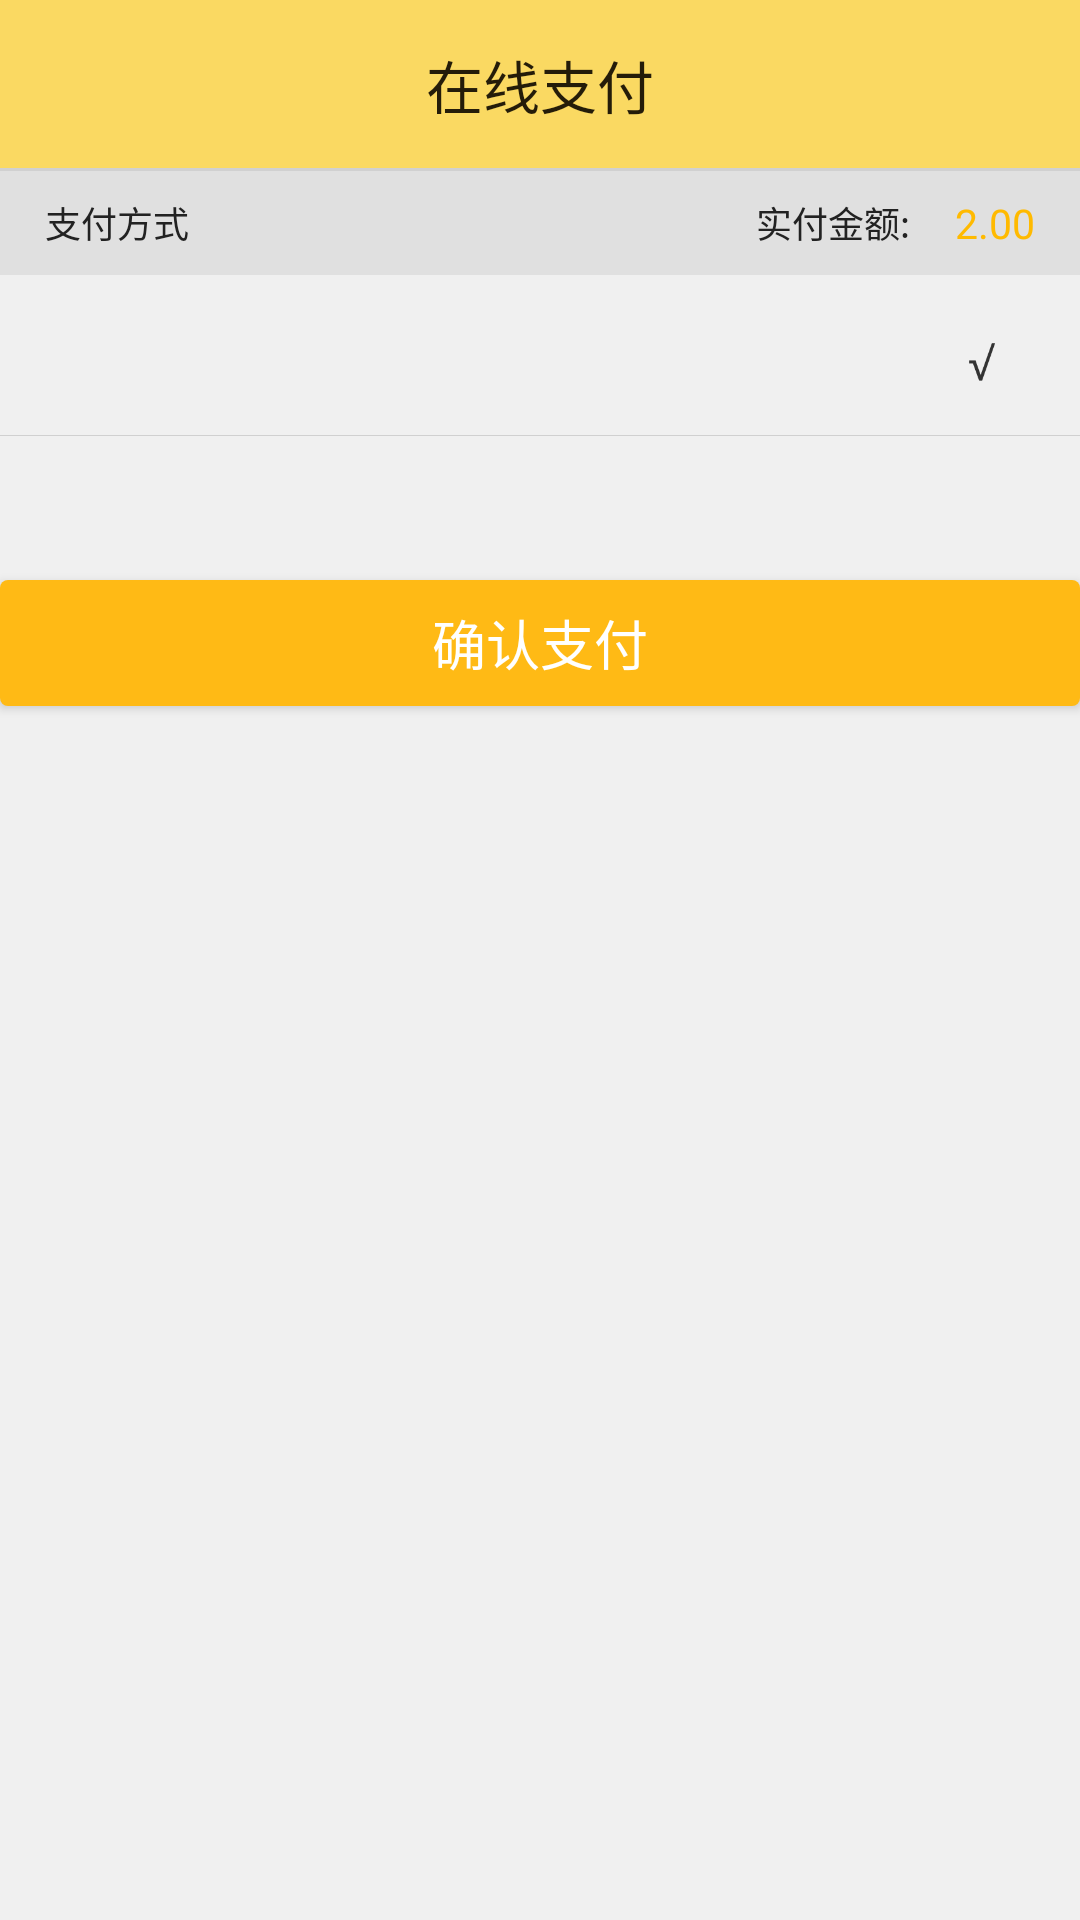

Where icons sit on this 1080px×1920px app screen, as [x1, y1, x2, y2]:
pay sel: [969, 343, 995, 381]
